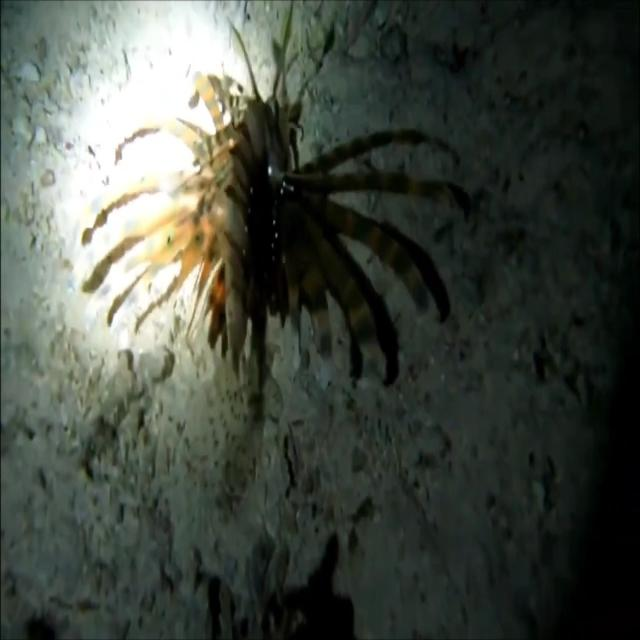Lionfish -Endangered- -Poisonous-: (82, 34, 441, 396)
